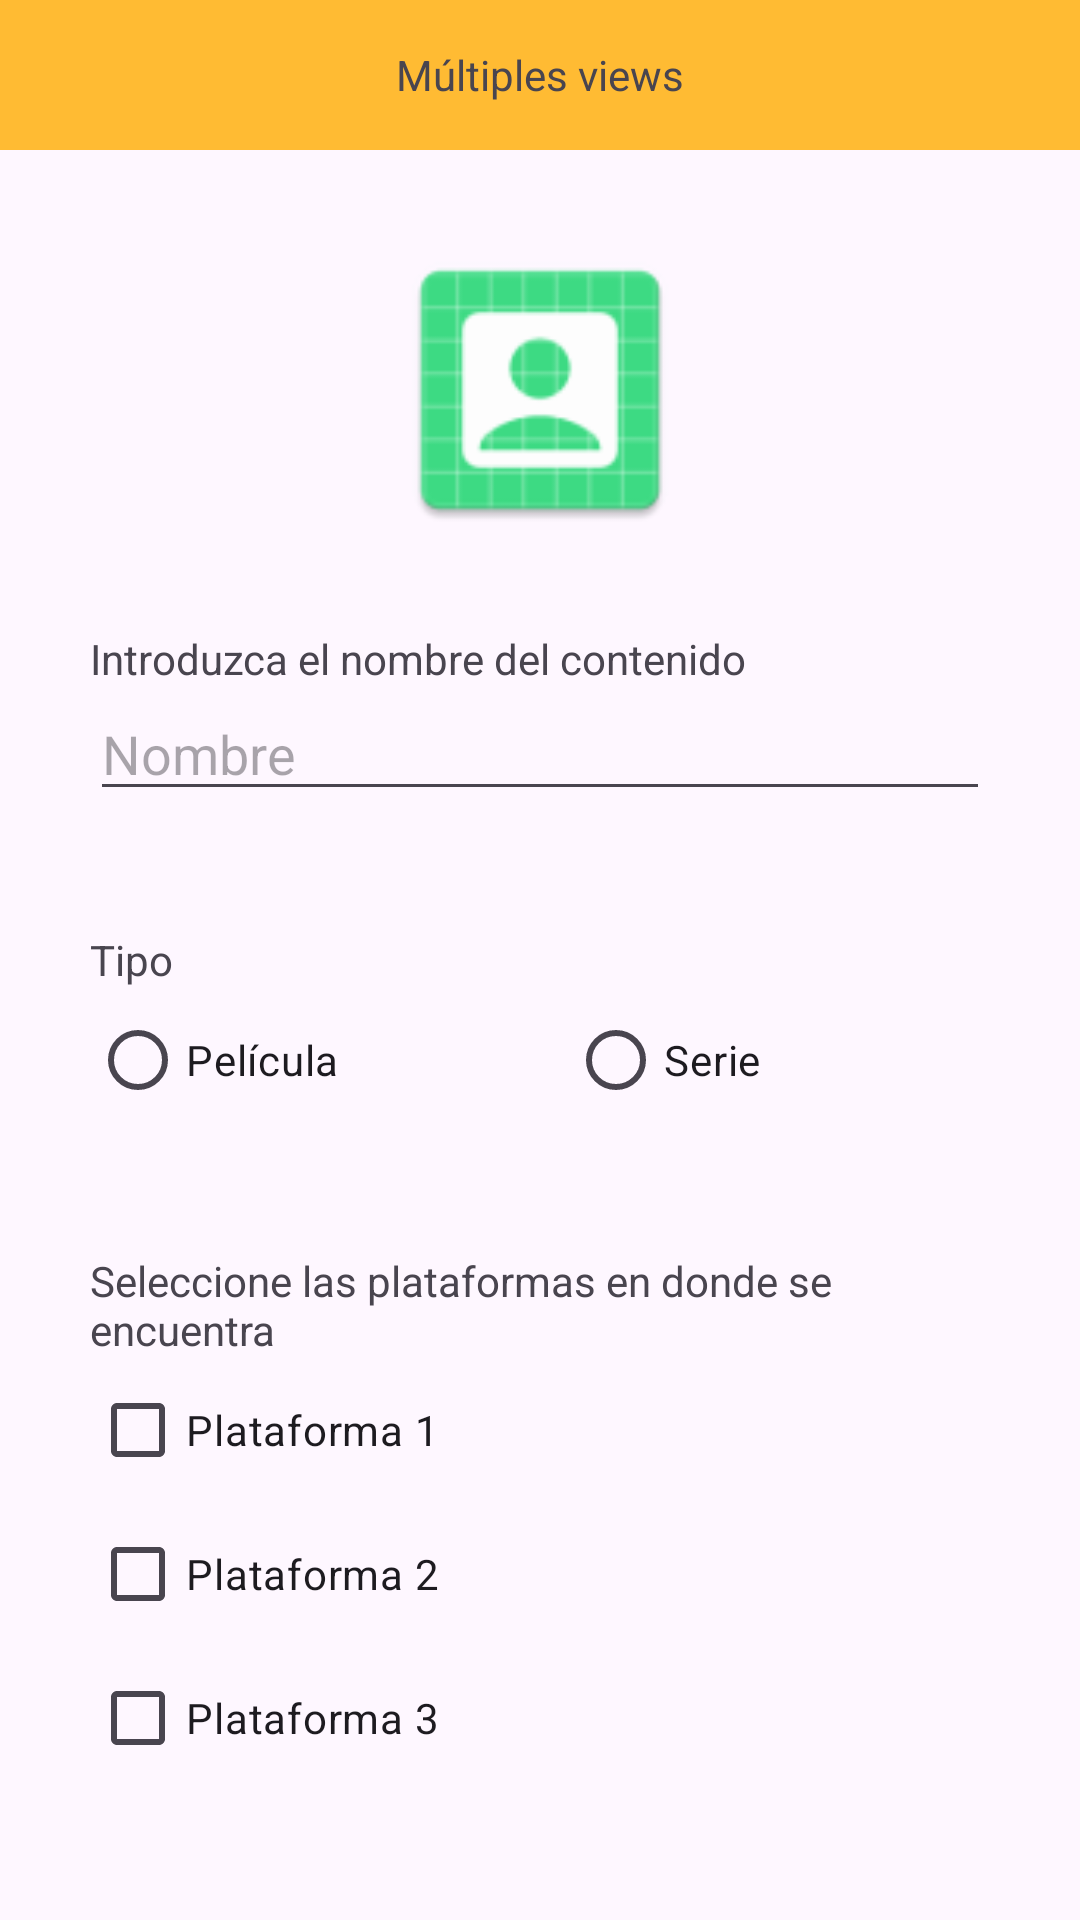

Locate icon controls on the screen. Image size 1080×1920, boxes as Rect(x1, y1, x2, y2).
account: Rect(418, 270, 662, 517)
